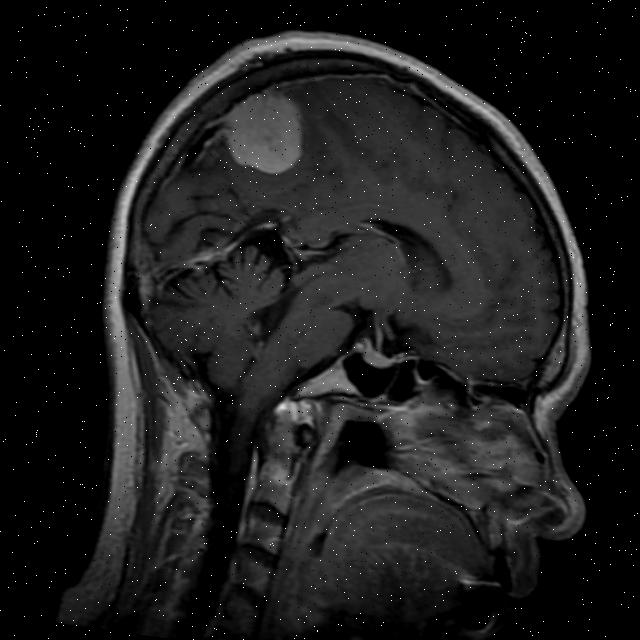Meningioma: (214, 84, 309, 178)
